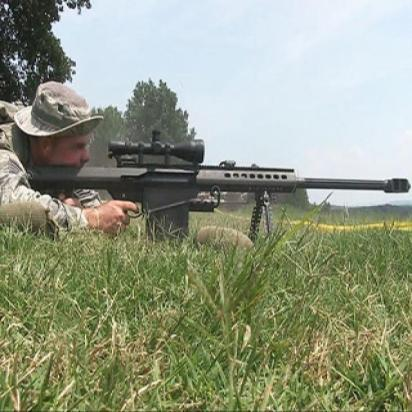Gun: (22, 129, 411, 241)
